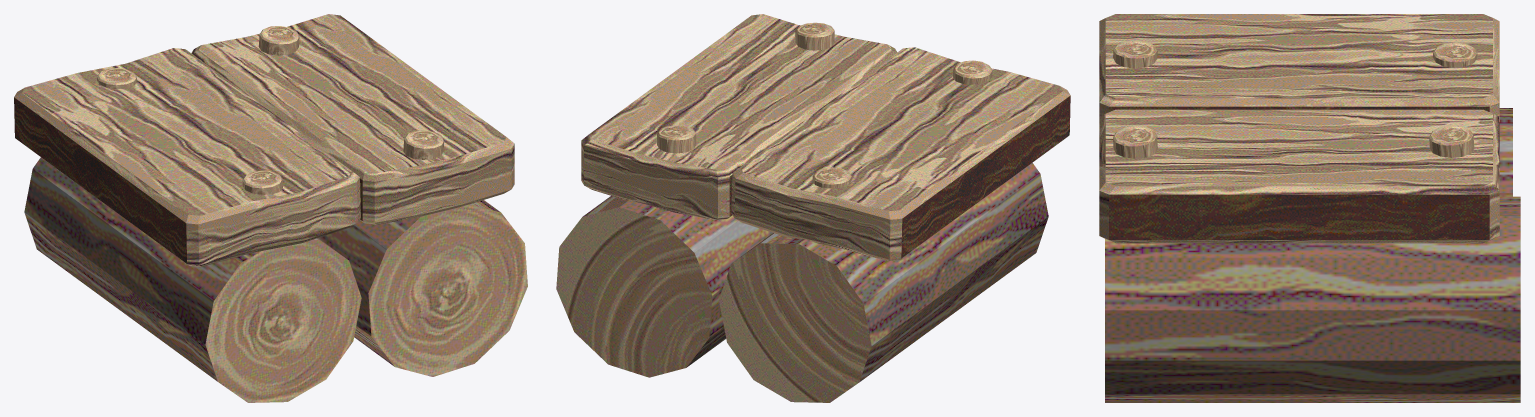
File: SlapBros_Beach_Plateform_1.fbx
3 views of the same model, side by side, from view 1: azimuth 30°, elevation 25°; view 2: azimuth 150°, elevation 25°; view 3: azimuth 270°, elevation 25° (orthographic). The views are drawn at different scales.
Visible parts, largest first — view 1: SlapBros_Beach_Plateform_1; view 2: SlapBros_Beach_Plateform_1; view 3: SlapBros_Beach_Plateform_1.
Part boxes in pixels (x1,y1,x2,y2): SlapBros_Beach_Plateform_1: (14, 14, 527, 402); SlapBros_Beach_Plateform_1: (556, 14, 1070, 402); SlapBros_Beach_Plateform_1: (1099, 14, 1520, 402).
Bounding box in the file's own units: 4.34 × 2.79 × 4.22.
